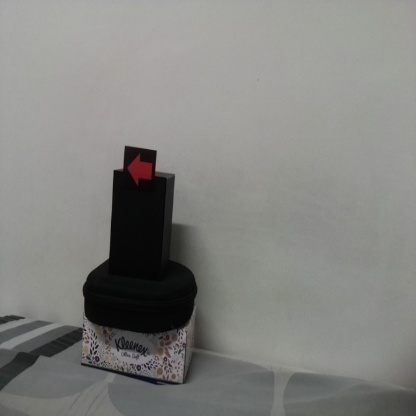id_4: (124, 147, 157, 192)
